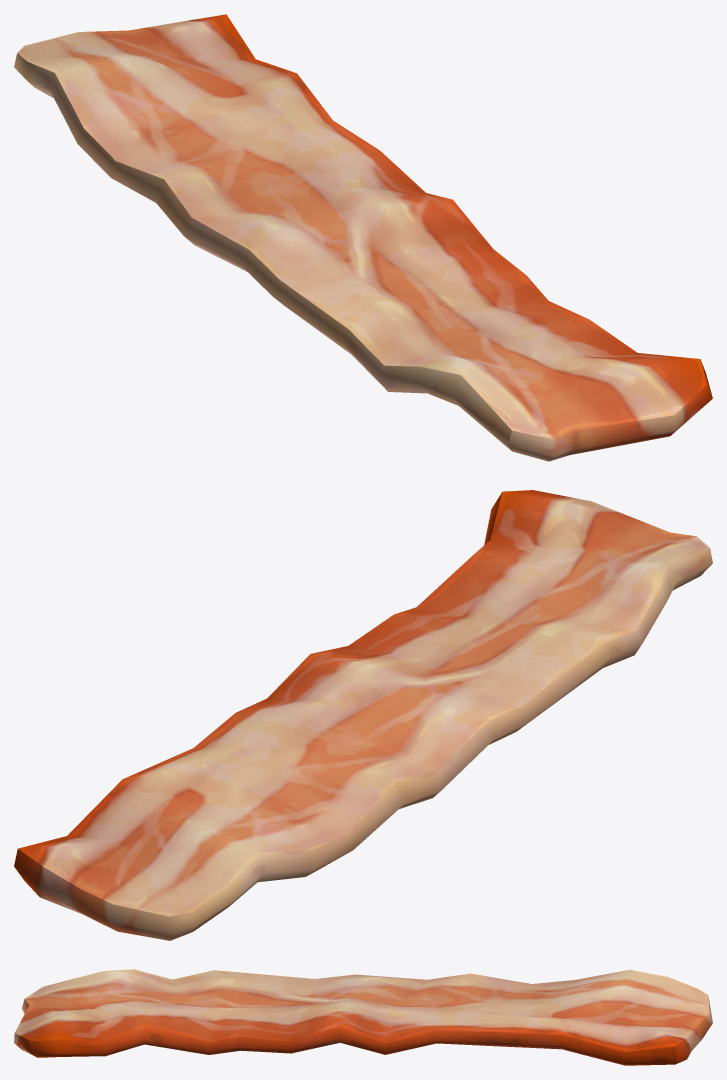
File: SM_BaconRaw.glb
The picture shows the model from 3 angles, top to bottom: view 1: azimuth 30°, elevation 25°; view 2: azimuth 150°, elevation 25°; view 3: azimuth 270°, elevation 25°; orthographic projection. The views are drawn at different scales.
Parts seen in each view (by area): view 1: SM_BaconRaw; view 2: SM_BaconRaw; view 3: SM_BaconRaw.
Part boxes in pixels (left/top/right/bottom): SM_BaconRaw: left=14, top=14, right=712, bottom=461; SM_BaconRaw: left=14, top=490, right=712, bottom=940; SM_BaconRaw: left=14, top=969, right=712, bottom=1065.
Size of the model in its own units: 0.051 by 0.0122 by 0.1977.
1 material, 1 textured.
